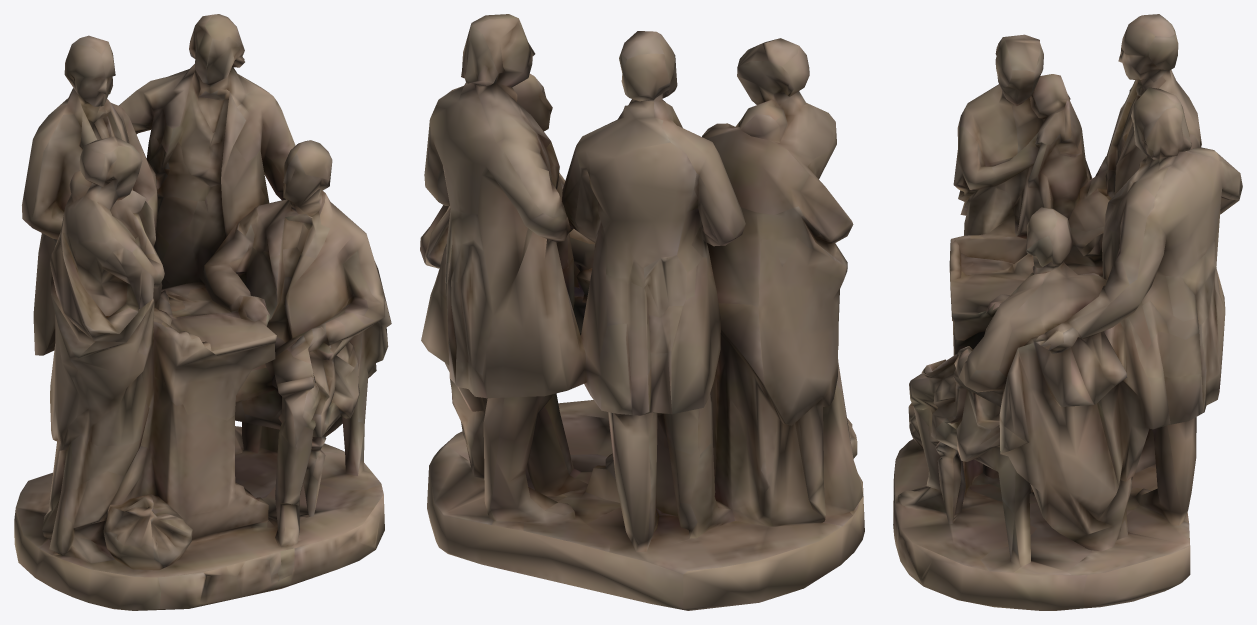
File: si-fugitives-story-figurine.lod1.glb
3 views of the same model, side by side, from view 1: azimuth 30°, elevation 25°; view 2: azimuth 150°, elevation 25°; view 3: azimuth 270°, elevation 25° (orthographic). The views are drawn at different scales.
Visible parts, largest first — view 1: -I-The_Fugitives_Story--I-unwrapped-webmulti; view 2: -I-The_Fugitives_Story--I-unwrapped-webmulti; view 3: -I-The_Fugitives_Story--I-unwrapped-webmulti.
Boxes of the visible parts, x1,y1,x2,y2 form: -I-The_Fugitives_Story--I-unwrapped-webmulti: [14, 14, 391, 610]; -I-The_Fugitives_Story--I-unwrapped-webmulti: [420, 14, 864, 610]; -I-The_Fugitives_Story--I-unwrapped-webmulti: [893, 14, 1242, 610].
Bounding box in the file's own units: 0.4156 × 0.5488 × 0.3564.
1 material, 1 textured.
